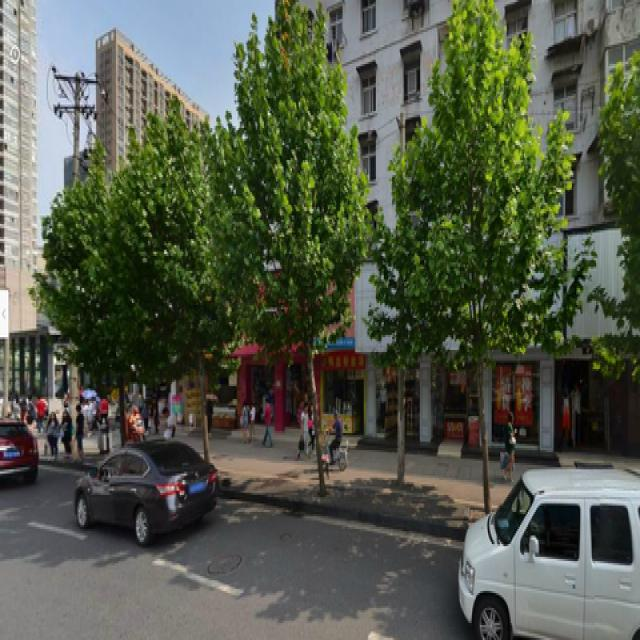meta: (228, 7, 376, 506)
